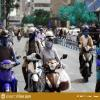motorcycles: (40, 56, 64, 92), (23, 53, 43, 94), (76, 42, 94, 79), (0, 60, 18, 96)
